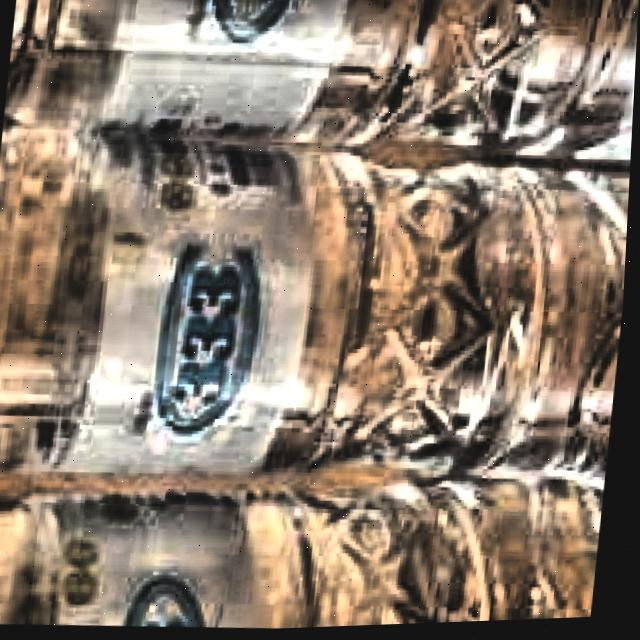plastic: (0, 121, 634, 536), (0, 430, 614, 640), (2, 0, 640, 168)
